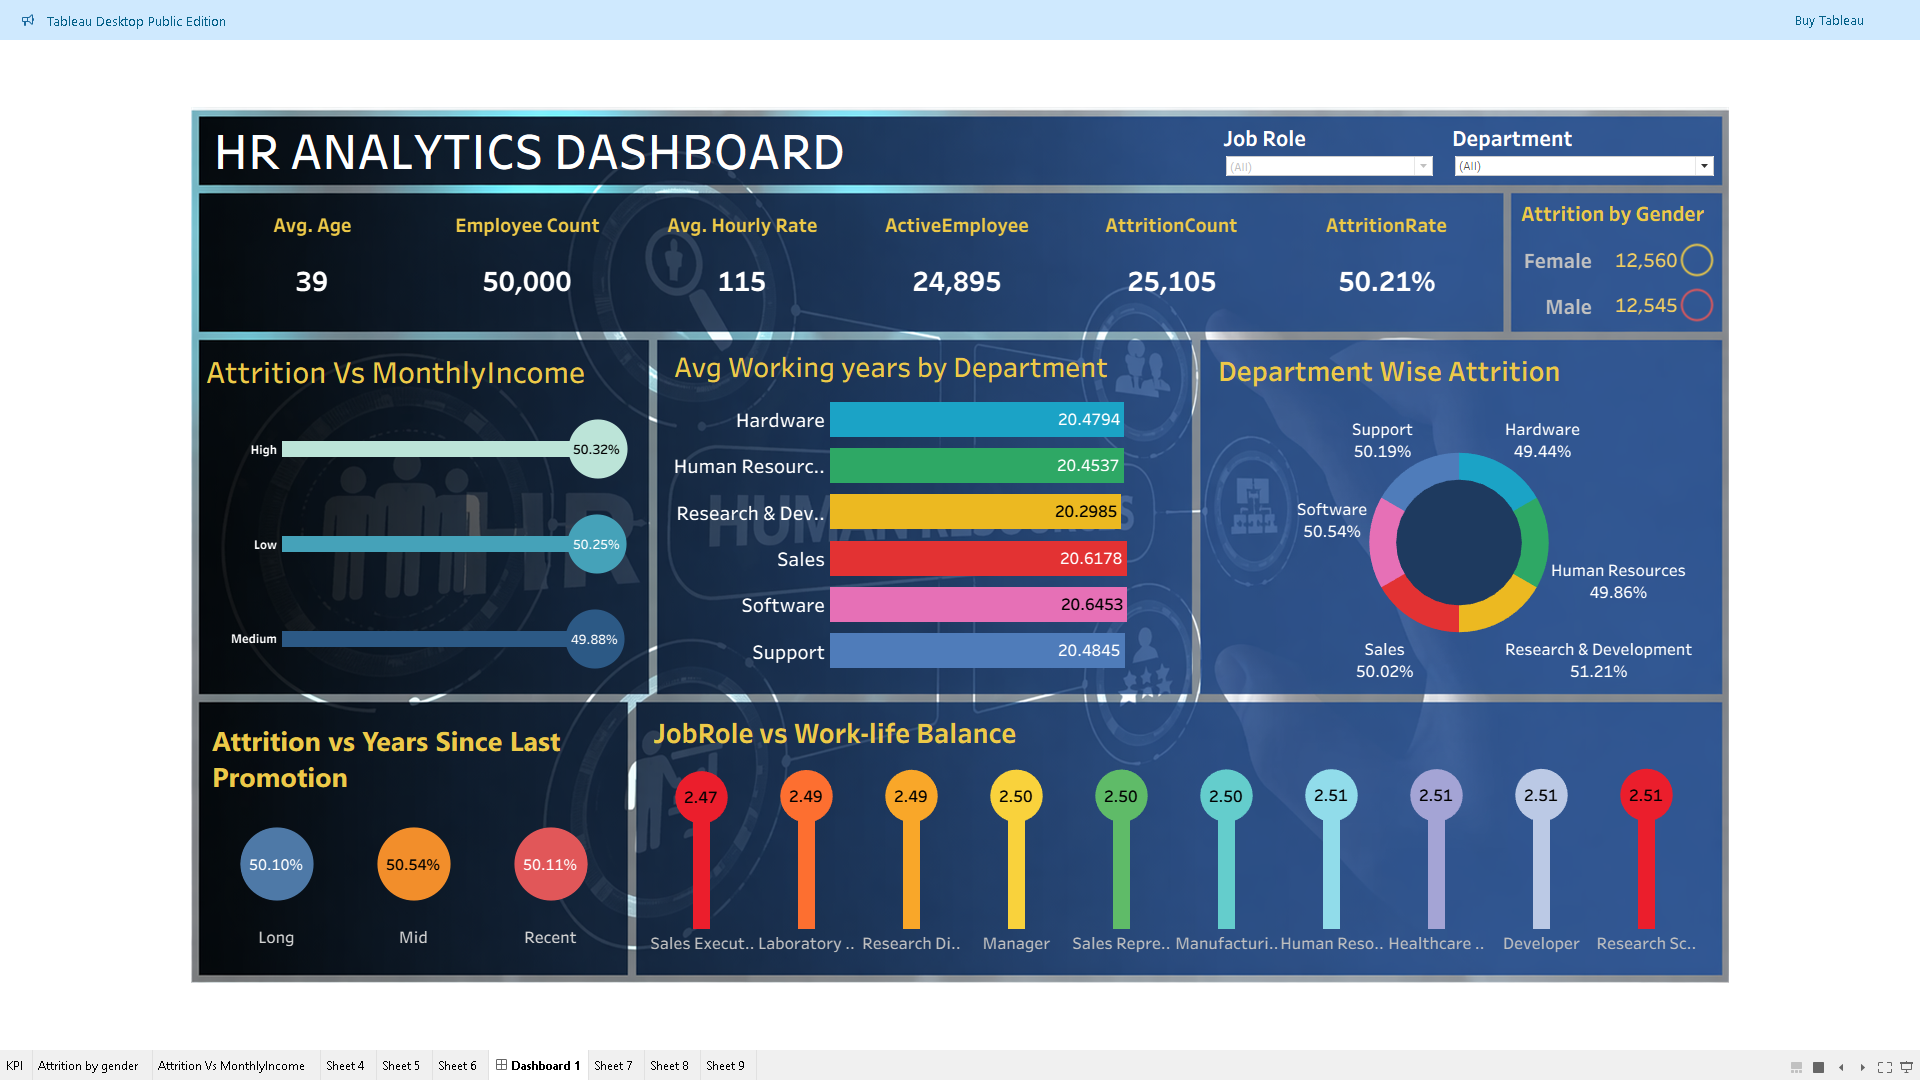

Layout of this report page (visuals, bound fields, positions):
{"tool":"tableau","page":{"name":"HR Analytics dashboard ","canvas":[1580,900],"ordinal":0},"visuals":[{"type":"image","param":"Image/Futuristic HR dashboard design tableau.png","box":[8,8,1564,884]},{"type":"text","box":[41,20,717,69]},{"type":"filter","title":"jobrole vs worklife balance ","param":"[federated.1b0733r0ixth0v11fbgd80oung73].[none:JobRole:nk]","box":[1053,28,213,61]},{"type":"filter","title":"Avg Working year by department","param":"[federated.1b0733r0ixth0v11fbgd80oung73].[Action (Department)]","box":[1282,28,265,62]},{"type":"worksheet","title":"Attrition by gender","mark":"Shape","rows":["Gender"],"cols":["Calculation_2062367211394719744"],"box":[1347,100,201,133]},{"type":"worksheet","title":"KPI","mark":"Automatic","box":[35,102,1289,128]},{"type":"worksheet","title":"Avg Working year by department","mark":"Bar","rows":["Department"],"cols":["TotalWorkingYears"],"box":[500,249,511,330]},{"type":"worksheet","title":"Attrition Vs MonthlyIncome","mark":"Bar","rows":["IncomeGroup"],"cols":["Calculation_2062367211396243460","Calculation_2062367211396243460"],"box":[32,252,441,339]},{"type":"worksheet","title":"Department wise attriton ","mark":"Pie","cols":["Calculation_2062367211593617417","Calculation_2062367211593617417"],"box":[1044,253,490,337]},{"type":"worksheet","title":"jobrole vs worklife balance ","mark":"Bar","rows":["WorkLifeBalance","WorkLifeBalance"],"cols":["JobRole"],"box":[479,615,1067,259]},{"type":"worksheet","title":"Attrition vs years since last promotion ","mark":"Pie","rows":["Calculation_2062367211588386823","Calculation_2062367211588386823"],"cols":["PromotionGroup"],"box":[38,623,412,247]}]}

Visuals, with their boxes on the page's 1580x900 design canvas (x1, y1, x2, y2). These are canvas units, not pixel positions in the 1920x1080 screenshot, which may show the page scaled, cropped or inside an application window:
image: [8,8,1572,892]
text: [41,20,758,89]
"jobrole vs worklife balance " filter: [1053,28,1266,89]
"Avg Working year by department" filter: [1282,28,1547,90]
"Attrition by gender" worksheet (Shape marks): [1347,100,1548,233]
"KPI" worksheet: [35,102,1324,230]
"Avg Working year by department" worksheet (Bar marks): [500,249,1011,579]
"Attrition Vs MonthlyIncome" worksheet (Bar marks): [32,252,473,591]
"Department wise attriton " worksheet (Pie marks): [1044,253,1534,590]
"jobrole vs worklife balance " worksheet (Bar marks): [479,615,1546,874]
"Attrition vs years since last promotion " worksheet (Pie marks): [38,623,450,870]
